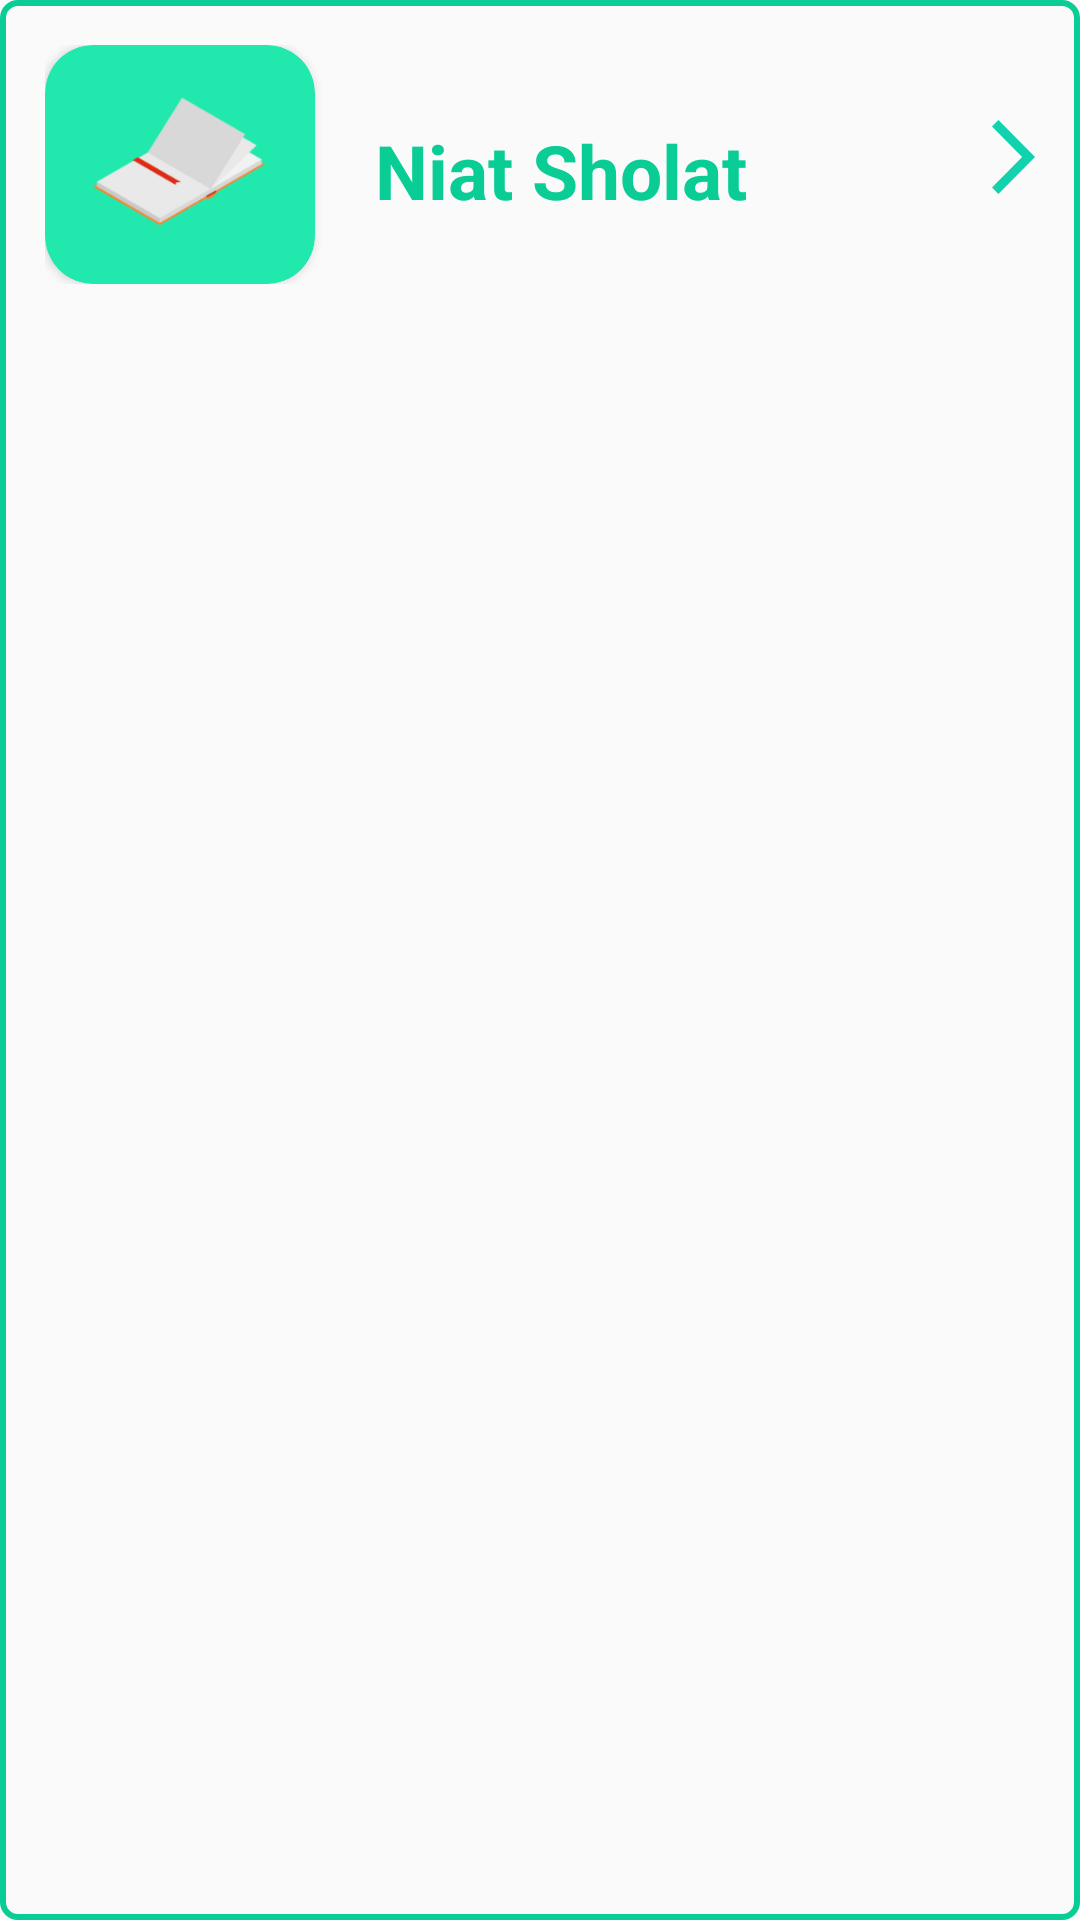

Point at icon controls on the screen. Image size 1080w x 1920h, points as point (x, y).
book: point (179, 162)
right: point (1013, 157)
